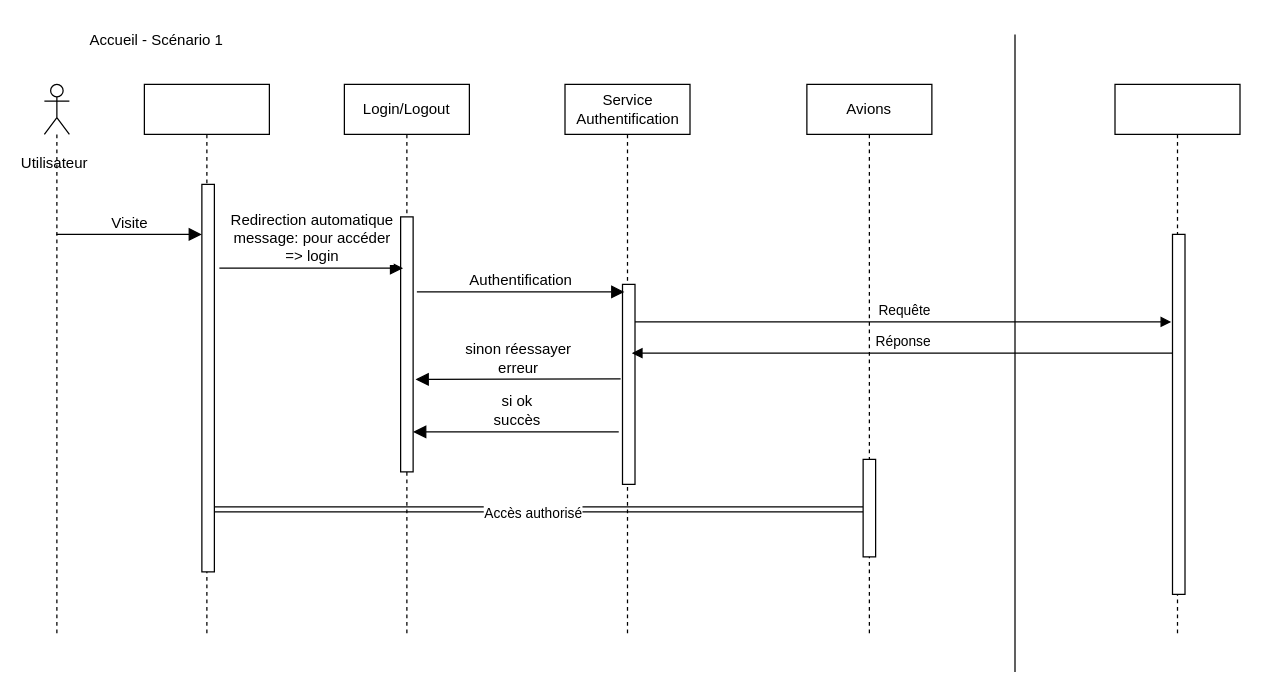
Image size: 1263x695. Some labels were removed from this diagram. The box of each missing label's shape, as (x1, y1, x2, y2) in pixels:
API: (1114, 83, 1240, 634)
App Front: (143, 83, 269, 634)
